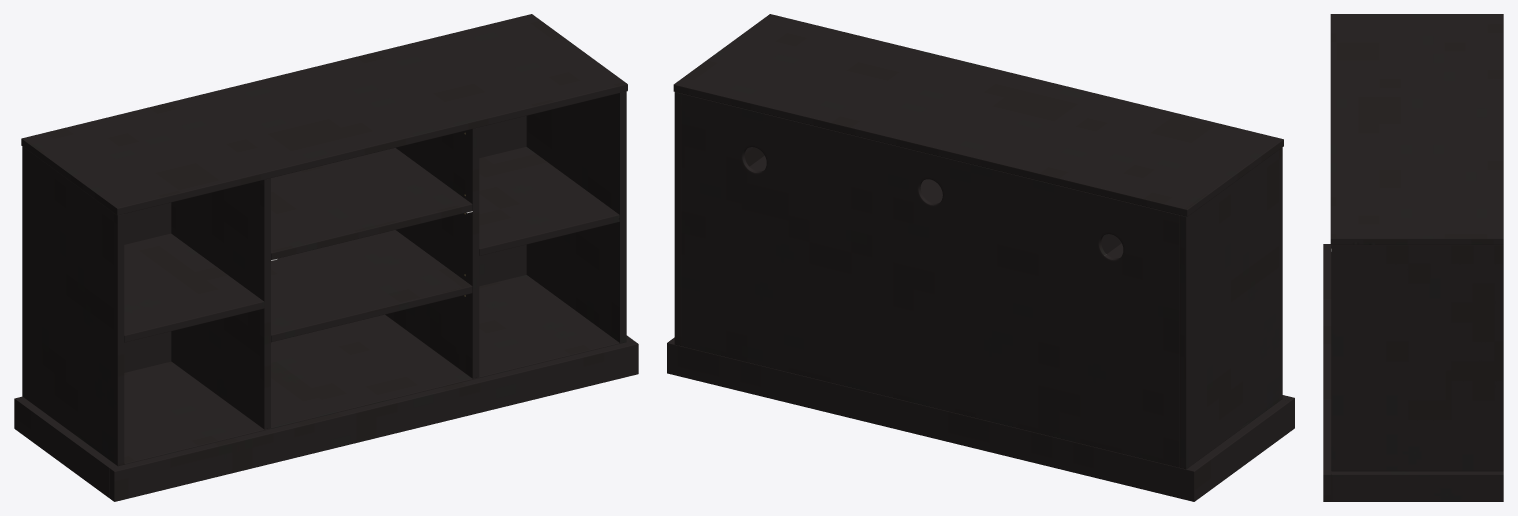
Rendered from abo-B07P7VBMKP.glb.
3 views of the same model, side by side, from view 1: azimuth 30°, elevation 25°; view 2: azimuth 150°, elevation 25°; view 3: azimuth 270°, elevation 25° (orthographic). The views are drawn at different scales.
Size of the model in its own units: 1.21 by 0.635 by 0.399.
Materials: 1 (1 with a texture image).
